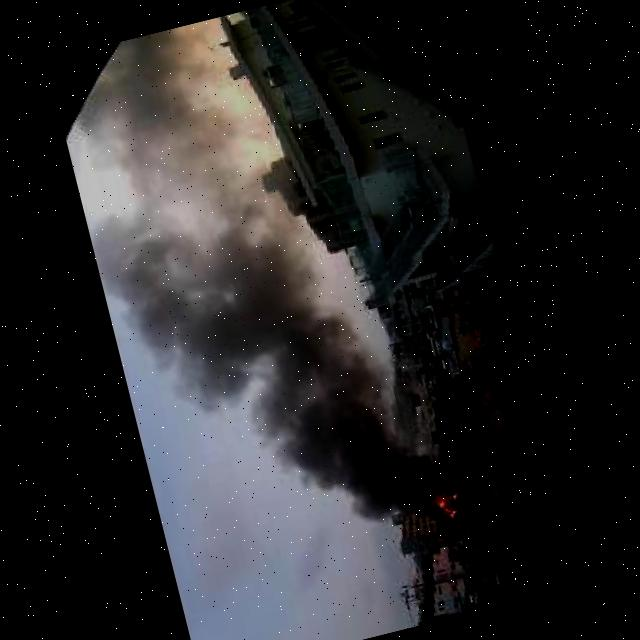fire: (51, 9, 436, 589), (435, 491, 463, 522)
